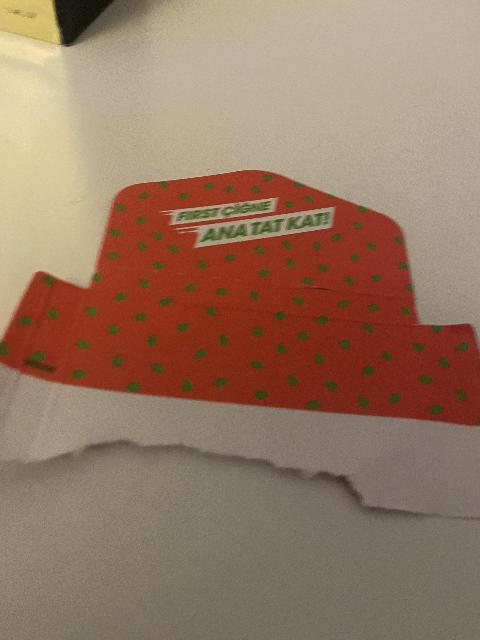Kagit: (2, 160, 480, 521)
